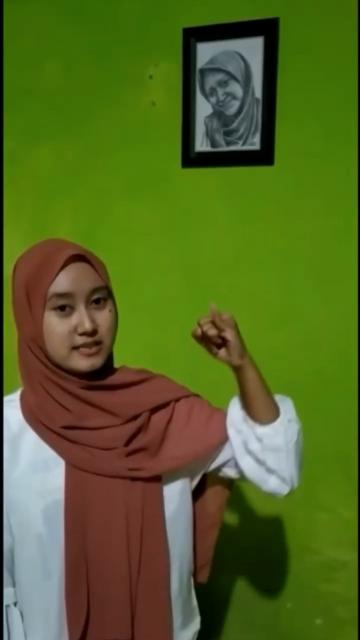J: (187, 298, 259, 372)
